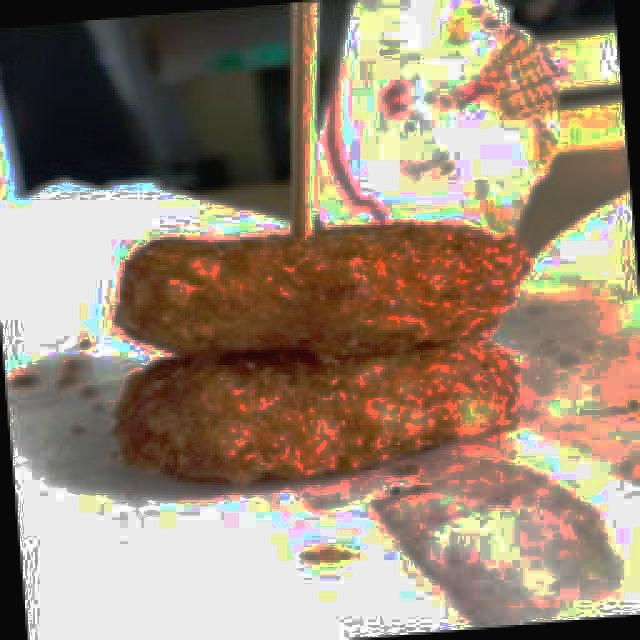Hashbrown: (118, 344, 517, 479), (118, 225, 526, 352)
